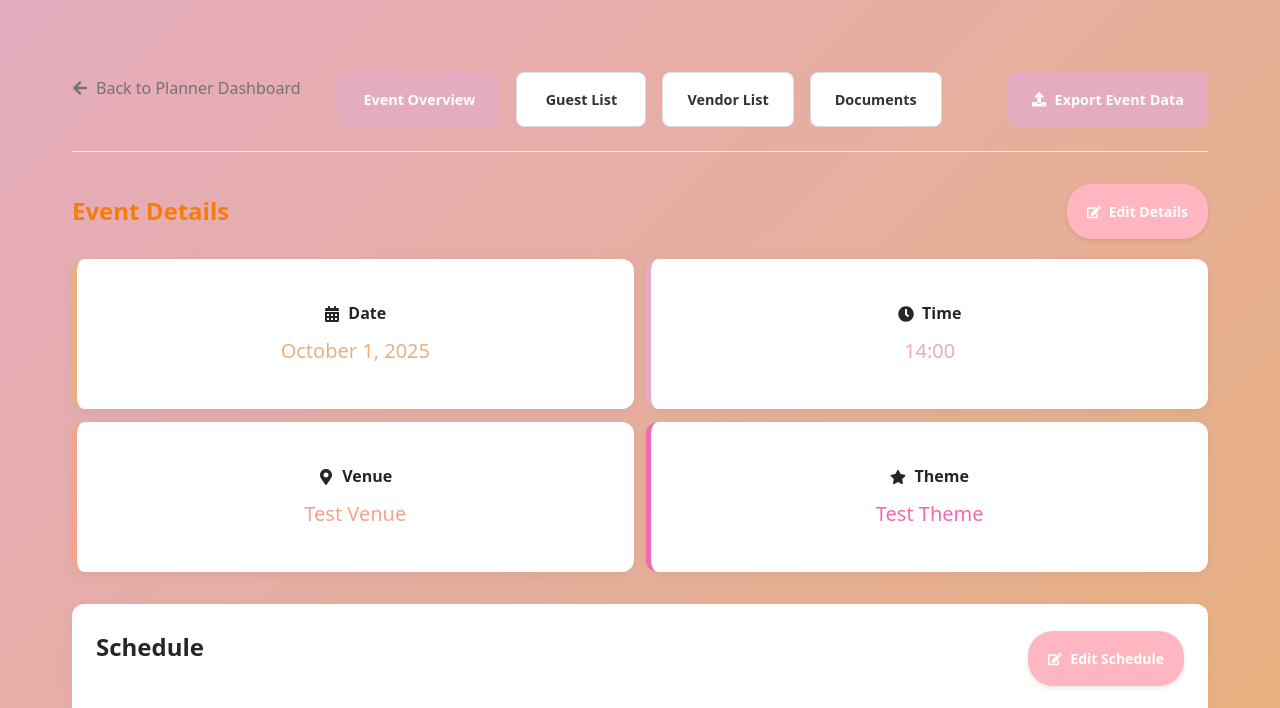
Scenario: EventDetails Component › Guest Management › displays guest list correctly
Click the button "Guest List". click: {"x": 581, "y": 100}
box: [516,72,646,127]
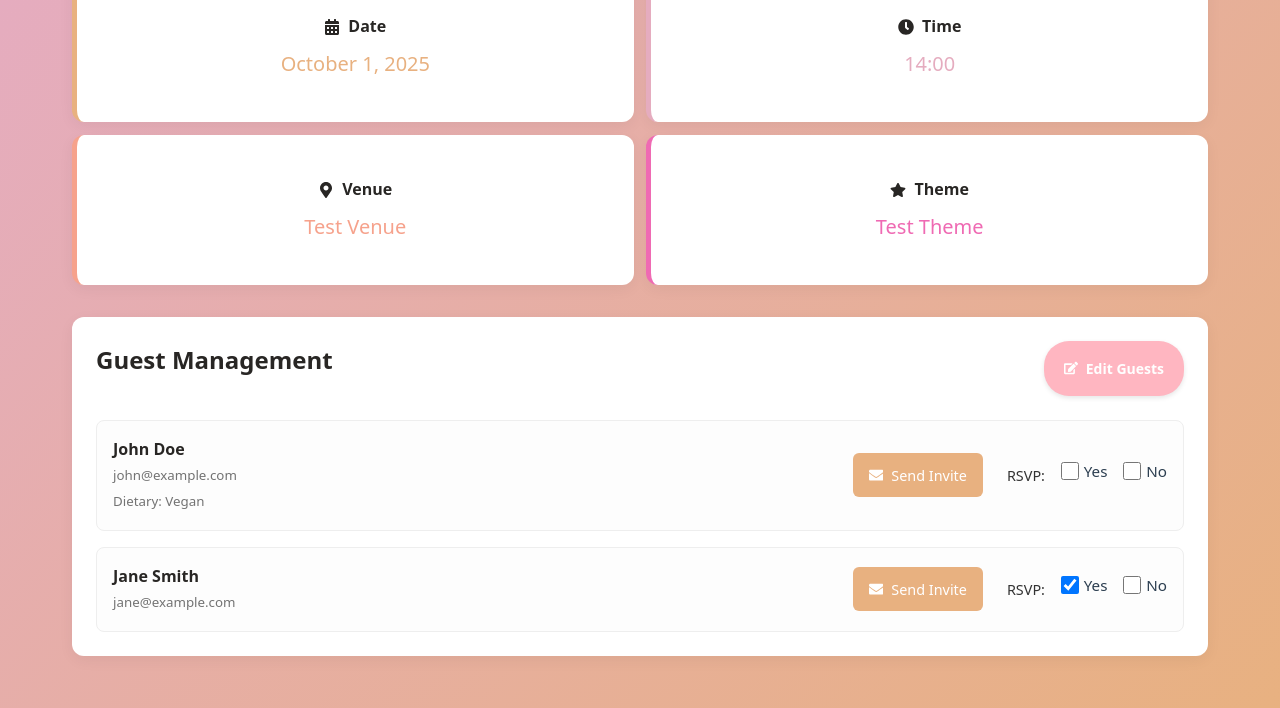
Now the heading "Guest Management" is shown, box [96,341,333,380]
Now the text "John Doe" is shown, box [113,438,185,460]
Now the text "Jane Smith" is shown, box [113,565,199,587]
